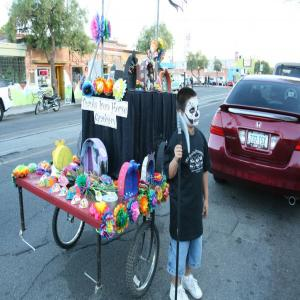Vehicle-registration-plate: (248, 130, 270, 151)
